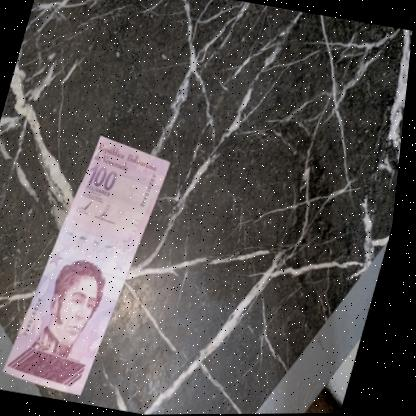one_hundred-front-vef: (3, 128, 180, 401)
